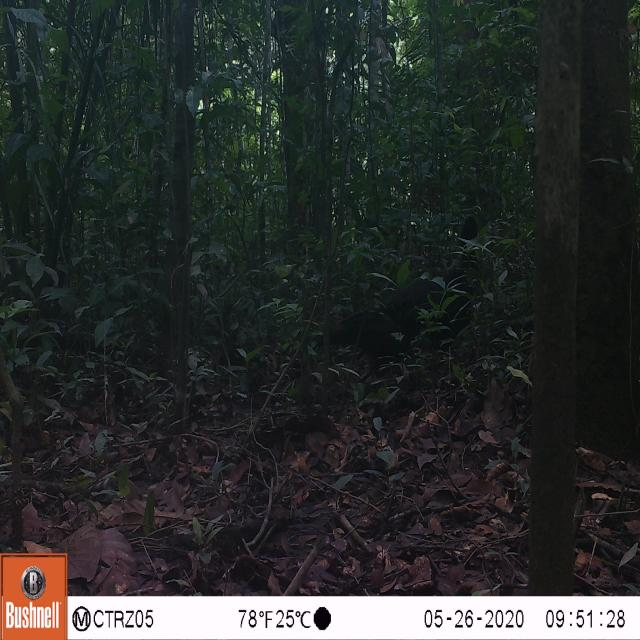Salvins Curassow: (315, 201, 490, 408)
